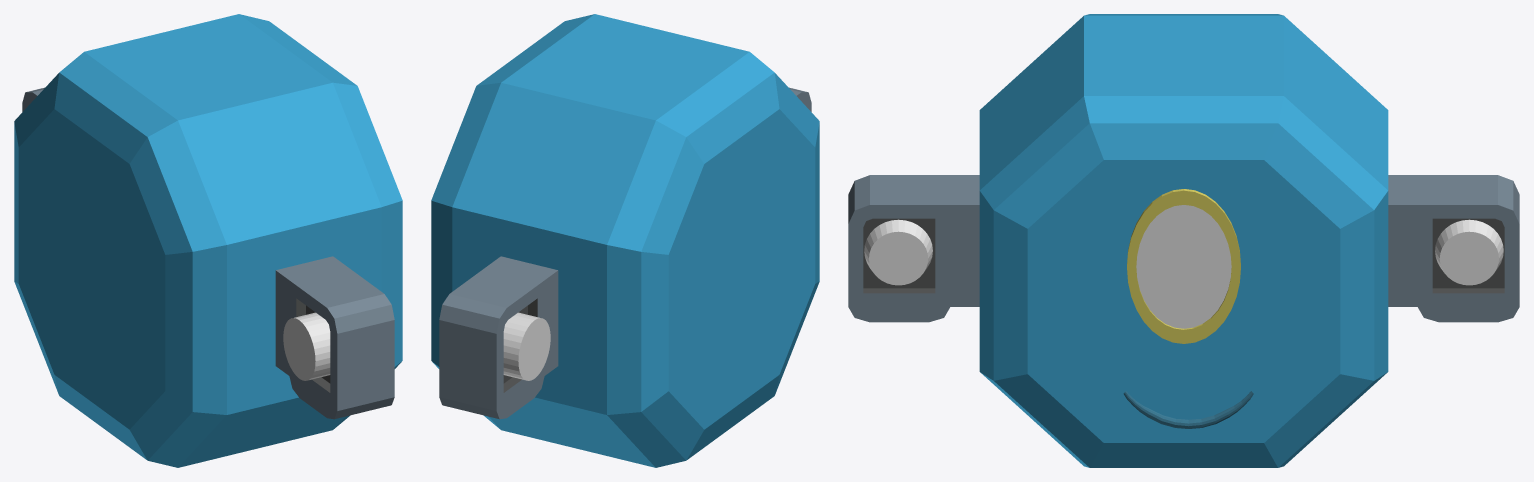
File: drone.fbx
3 views of the same model, side by side, from view 1: azimuth 30°, elevation 25°; view 2: azimuth 150°, elevation 25°; view 3: azimuth 270°, elevation 25° (orthographic). The views are drawn at different scales.
Visible parts, largest first — view 1: Куб; view 2: Куб; view 3: Куб.
Boxes of the visible parts, <box> form: Куб: <box>14,14,402,467</box>; Куб: <box>431,14,819,467</box>; Куб: <box>848,14,1519,467</box>.
Size of the model in its own units: 124 by 174 by 285.
